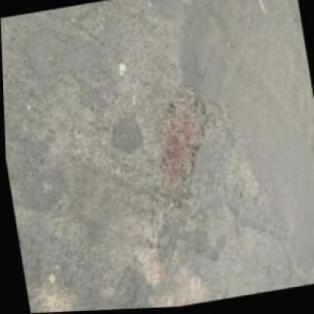Hueco: (142, 83, 220, 205)
